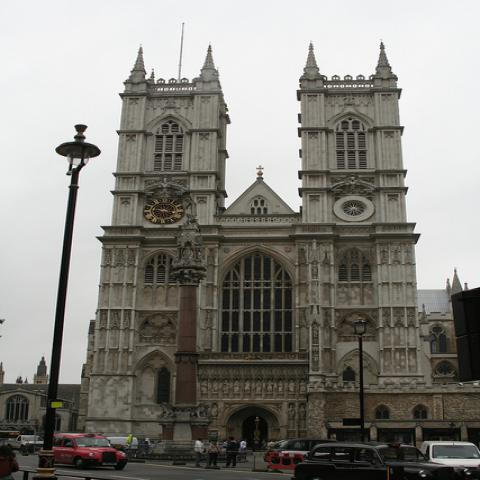car: (290, 442, 472, 480), (38, 433, 130, 470), (264, 439, 339, 464)
truck: (290, 440, 405, 479), (421, 441, 479, 475), (4, 434, 44, 454)
